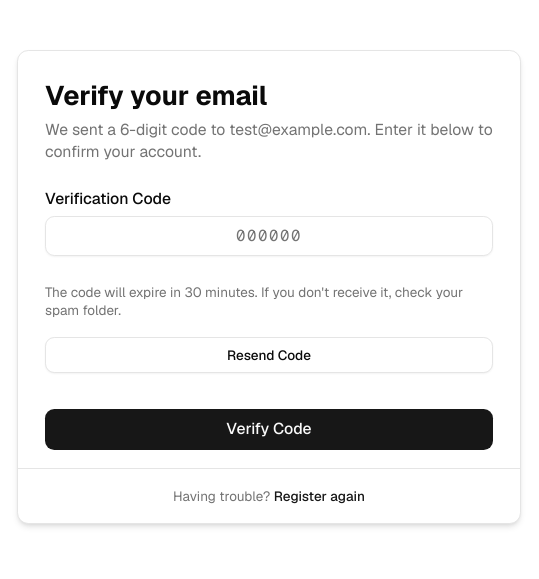
VerificationForm Component › Form Submission › should show error message when verification fails
Type "123456" into the field with placeholder "000000" at (269, 236), box [45, 216, 493, 256]
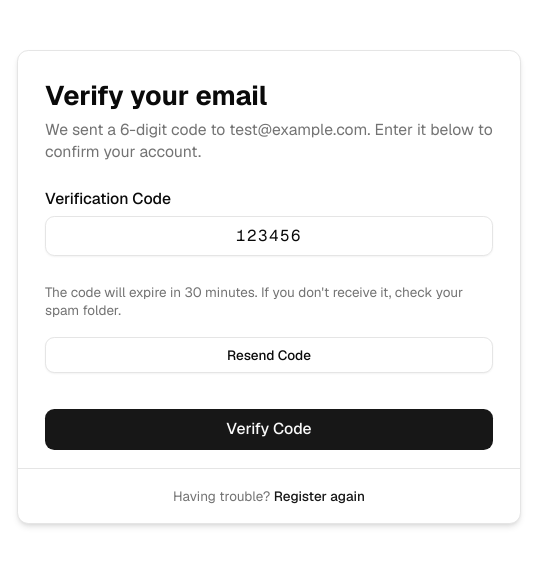
Click the button "Verify Code" at (269, 429), box [45, 409, 493, 450]
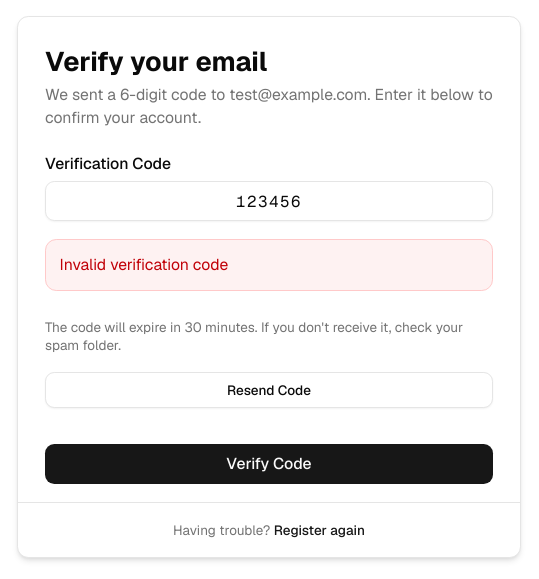
Result: the text "Invalid verification code" is shown at [45, 239, 493, 291]
